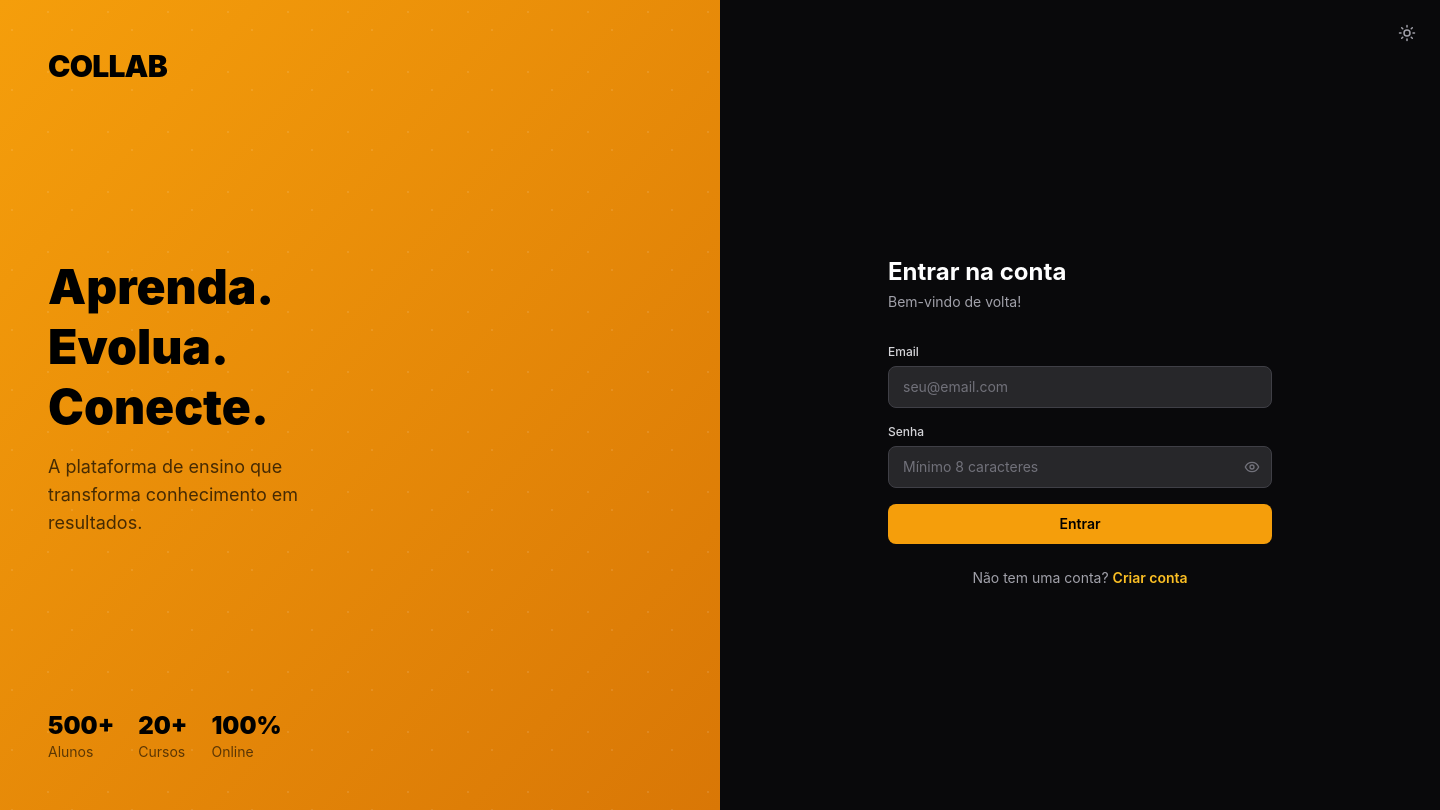
Test: LoginPage › shows loading state during submission
The image size is (1440, 810).
Type "a@b.com" into the field with placeholder "seu@email.com".
click(1080, 387); type("a@b.com")  # box [888,366,1272,408]
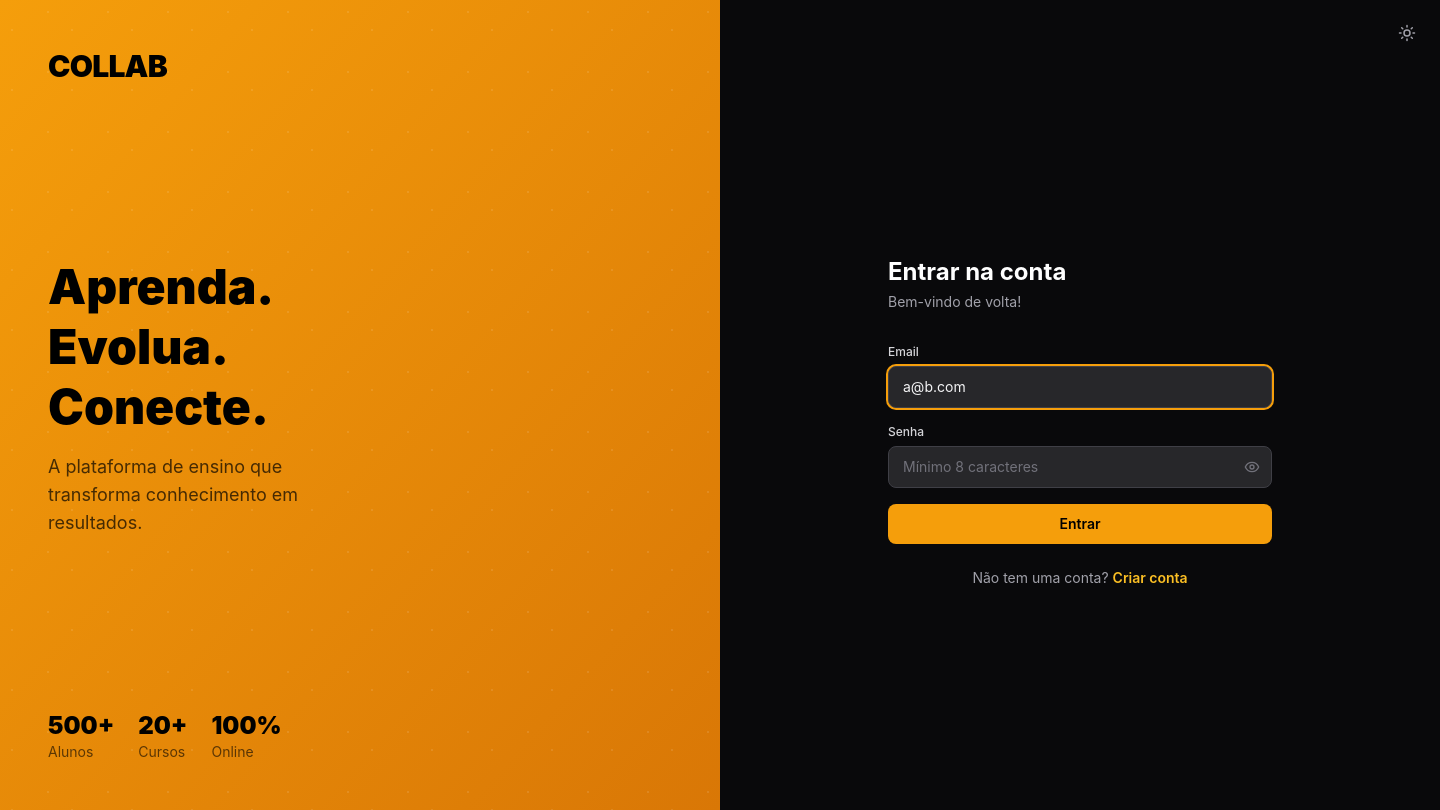
Type "password123" into the password field with placeholder "Mínimo 8 caracteres".
click(1080, 467); type("password123")  # box [888,446,1272,488]
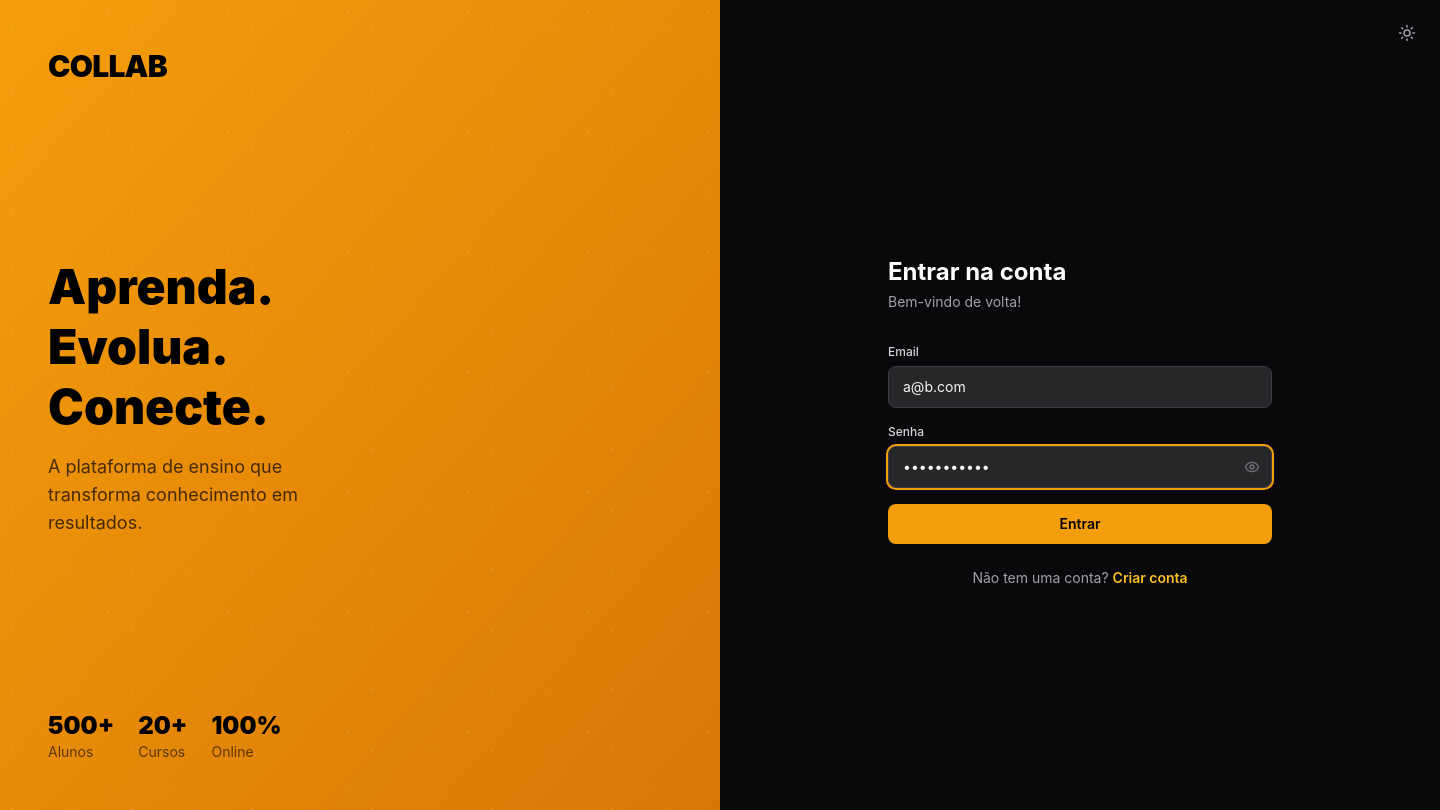
Click the button "Entrar".
click(1080, 524)  # box [888,504,1272,544]
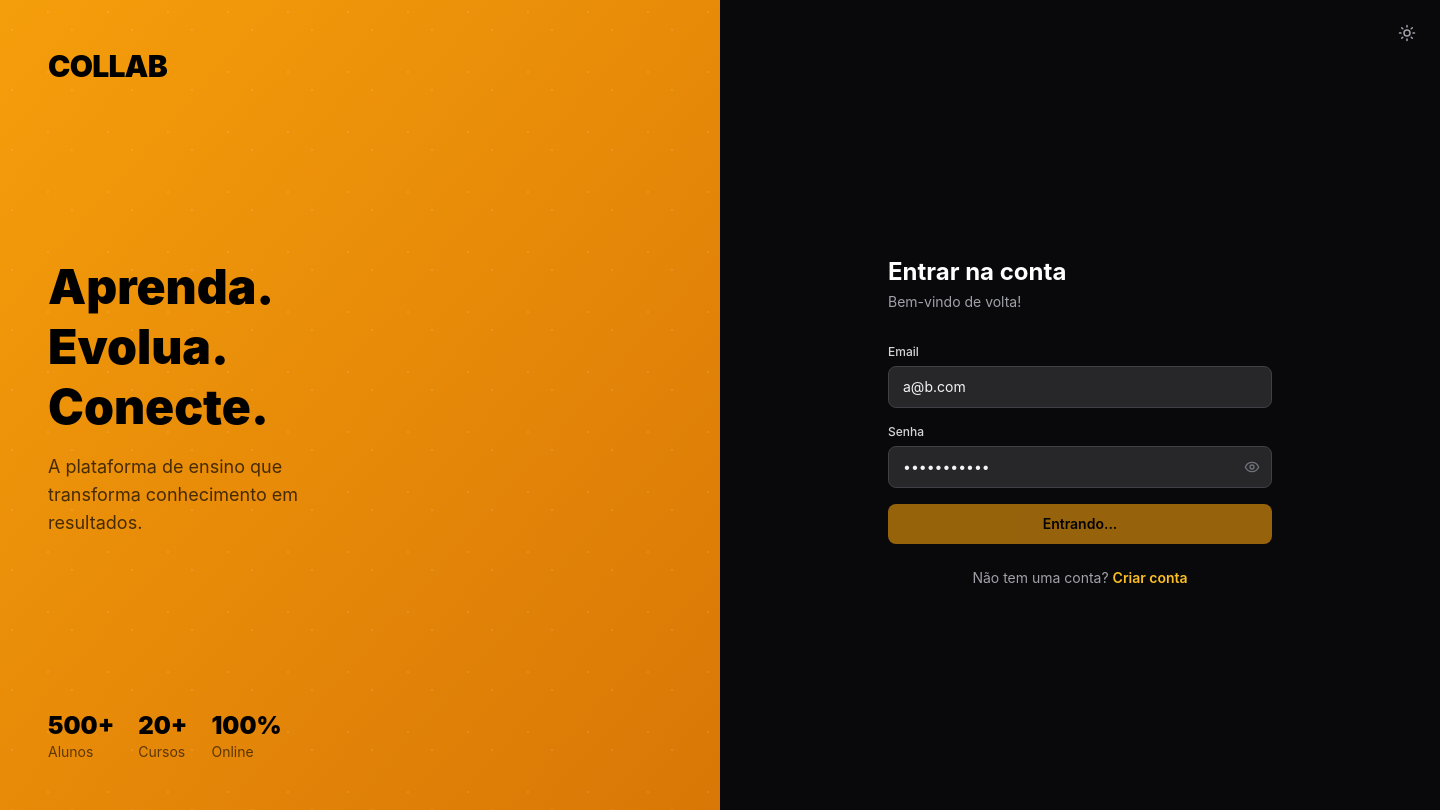
Check: the button "Entrando..." is shown, box [888,504,1272,544]
